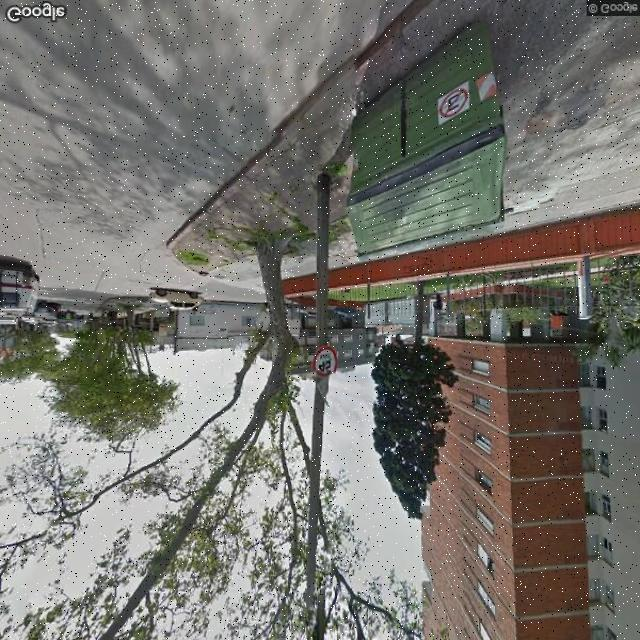garbage container: (340, 10, 532, 271)
